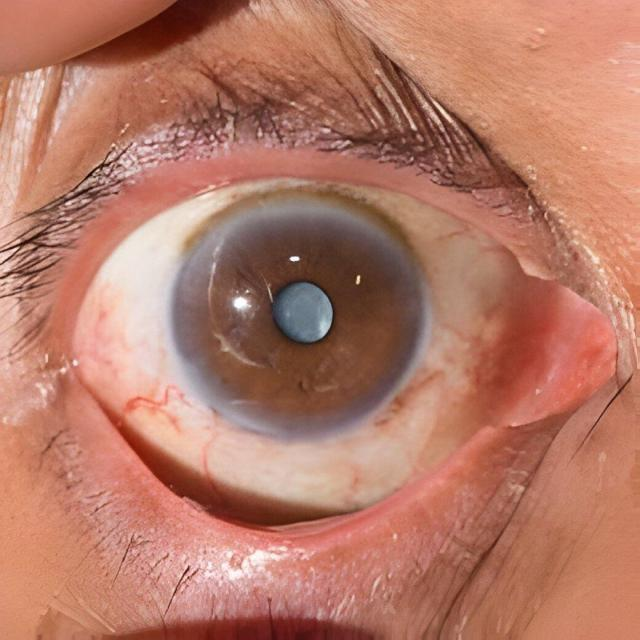Cataract: (170, 203, 429, 438)
